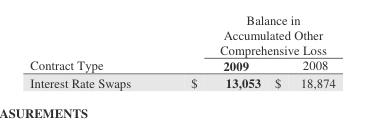table: (29, 29, 334, 90)
table column: (29, 29, 160, 90), (160, 29, 267, 90), (267, 29, 334, 90)
table column header: (29, 29, 334, 74)
table row: (29, 29, 334, 58), (29, 58, 334, 74), (29, 74, 334, 90)
table spanning cell: (29, 29, 160, 74), (160, 29, 334, 58)
